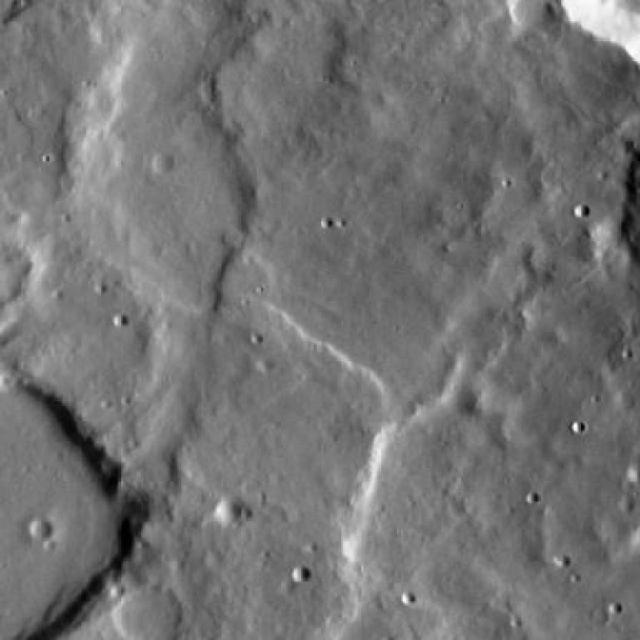crater: (0, 371, 163, 640), (106, 575, 182, 640), (612, 516, 640, 556), (217, 500, 243, 525), (27, 518, 50, 540), (148, 150, 172, 170), (620, 470, 640, 488), (291, 564, 309, 582)
